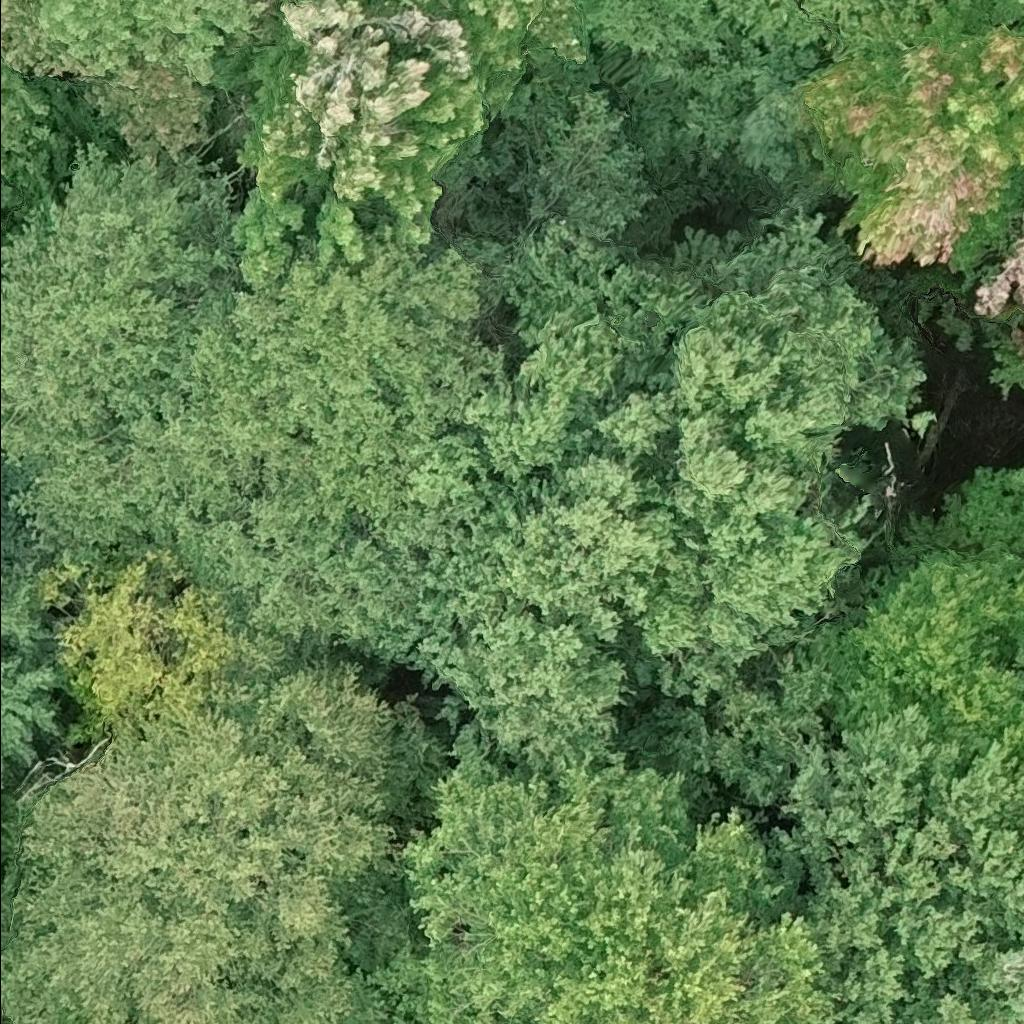crown: (362, 87, 929, 776), (0, 135, 500, 659), (0, 624, 448, 1023), (362, 729, 849, 1023), (650, 657, 1023, 1023), (232, 0, 592, 283), (792, 461, 1023, 757), (793, 0, 1023, 273), (0, 0, 272, 189), (31, 540, 236, 748), (0, 516, 63, 825), (785, 0, 935, 55), (1002, 622, 1023, 675), (0, 842, 5, 867), (767, 0, 776, 8)
